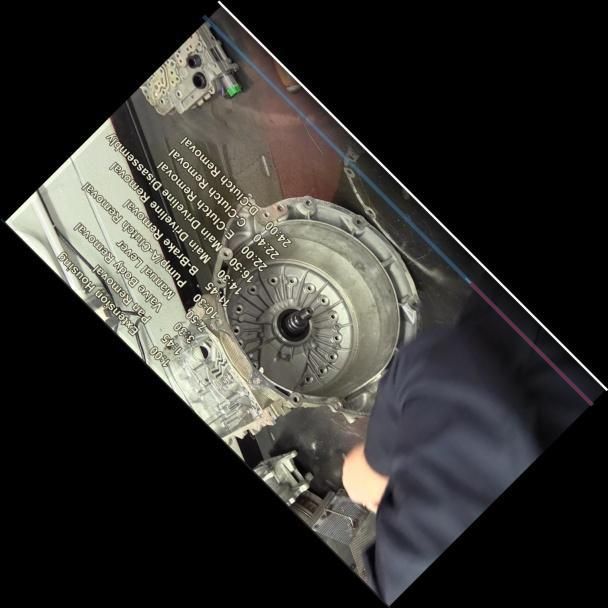hole: (289, 392, 302, 405), (272, 201, 285, 213), (352, 215, 364, 226)
